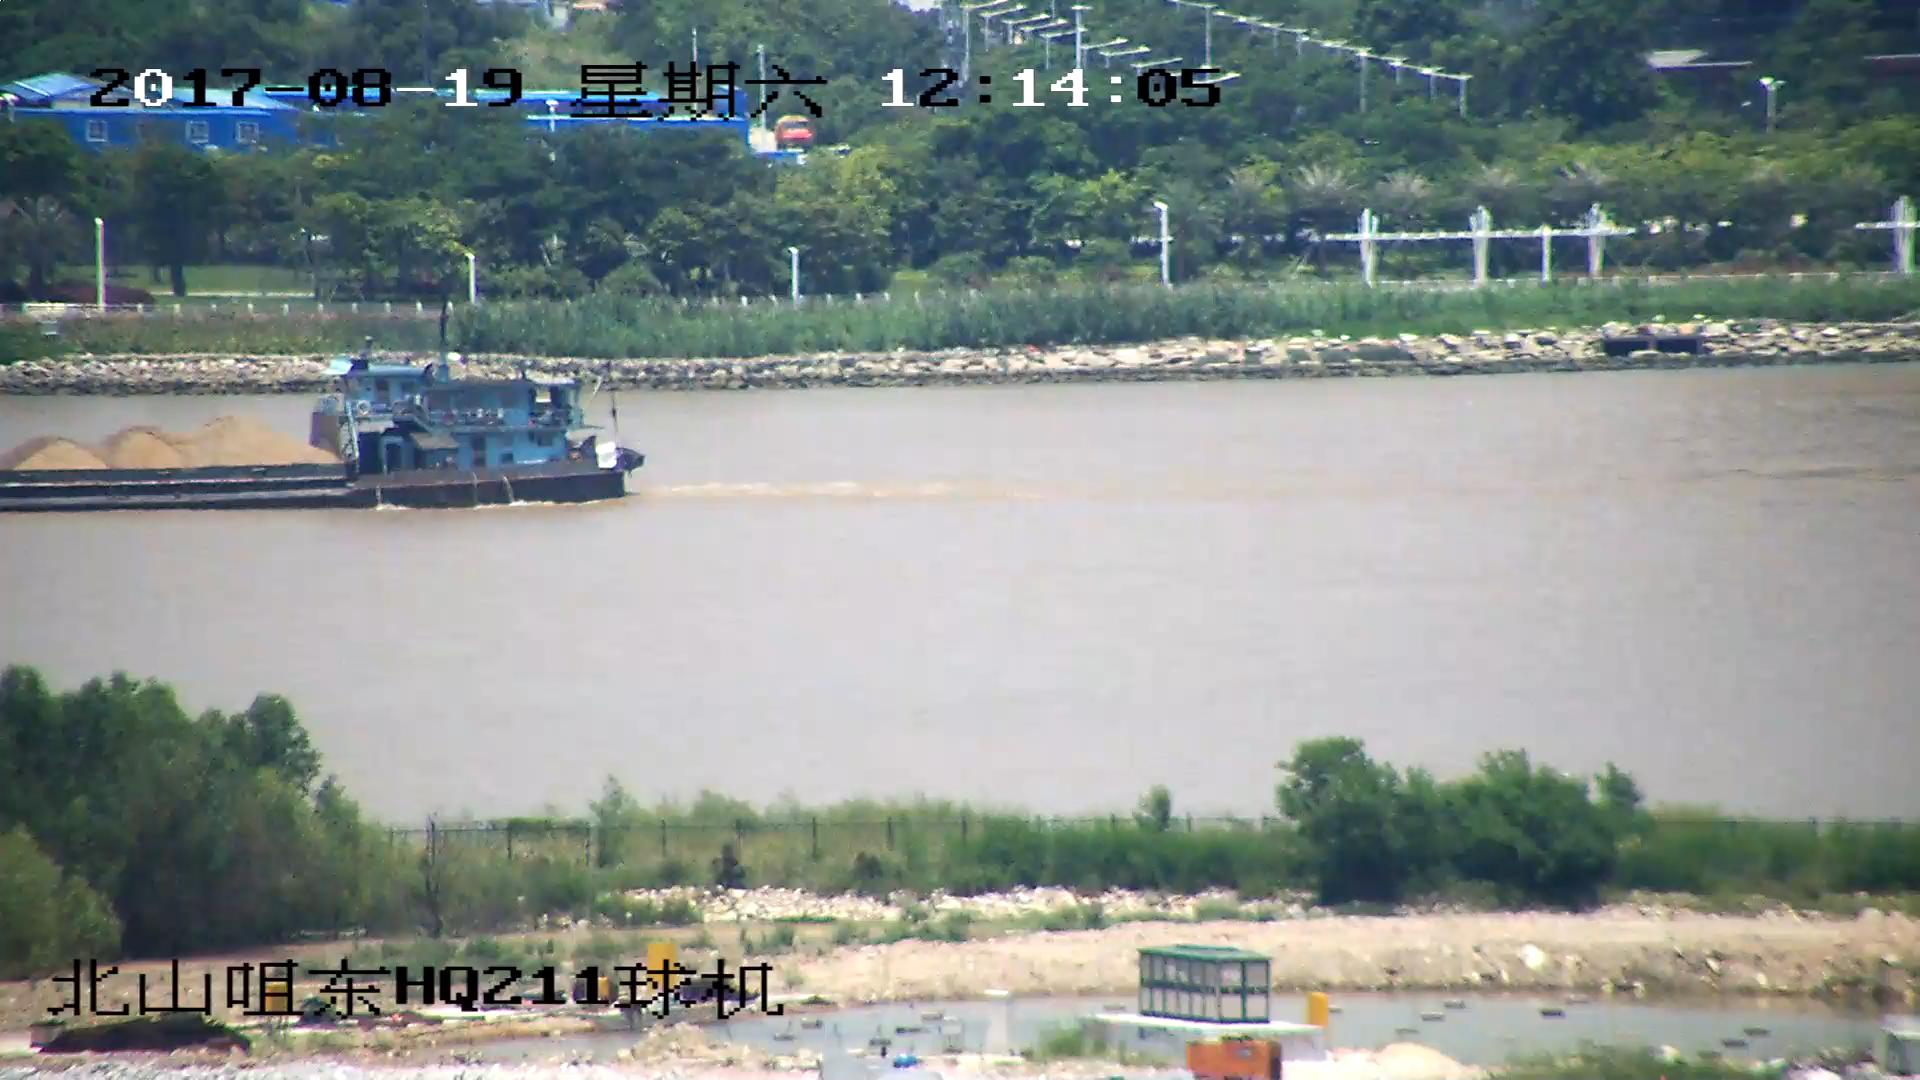ore carrier: (1, 331, 642, 510)
